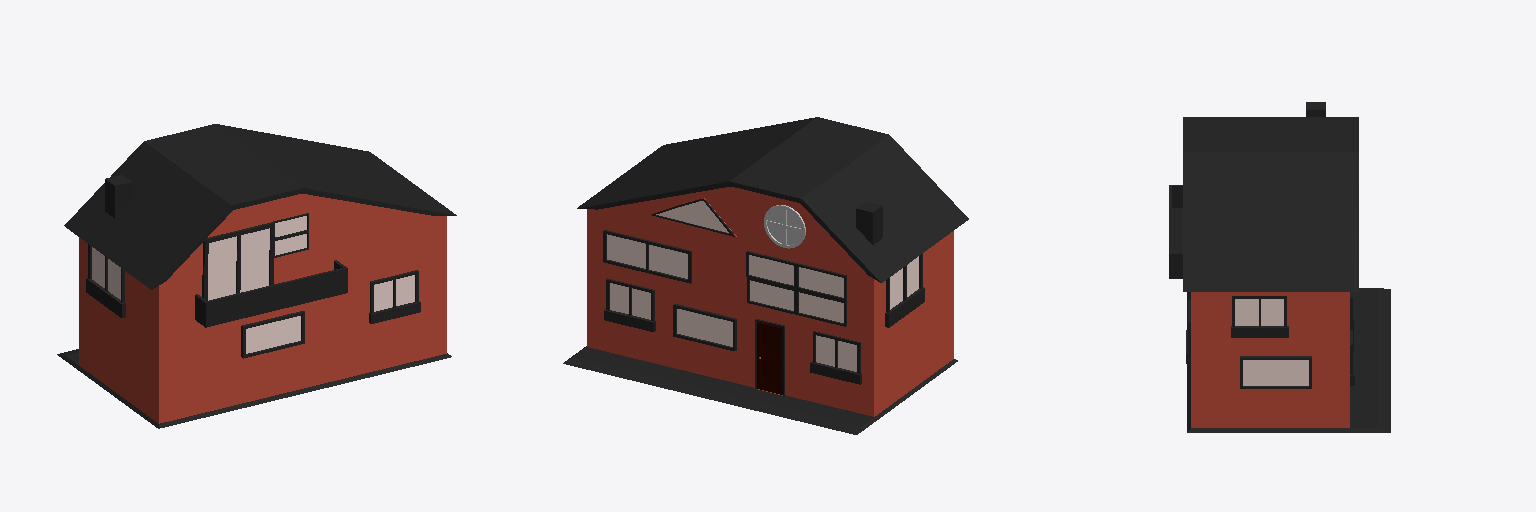
The model's file is bighouse.obj.
The picture shows the model from 3 angles: view 1: azimuth 30°, elevation 25°; view 2: azimuth 150°, elevation 25°; view 3: azimuth 270°, elevation 25°; orthographic projection.
Visible parts, largest first — view 1: Cube.002; view 2: Cube.002; view 3: Cube.002.
Part boxes in pixels (x1,y1,x2,y2): Cube.002: (57, 124, 456, 428); Cube.002: (563, 117, 968, 434); Cube.002: (1169, 102, 1390, 432).
Bounding box in the file's own units: 4.44 × 2.88 × 2.79.